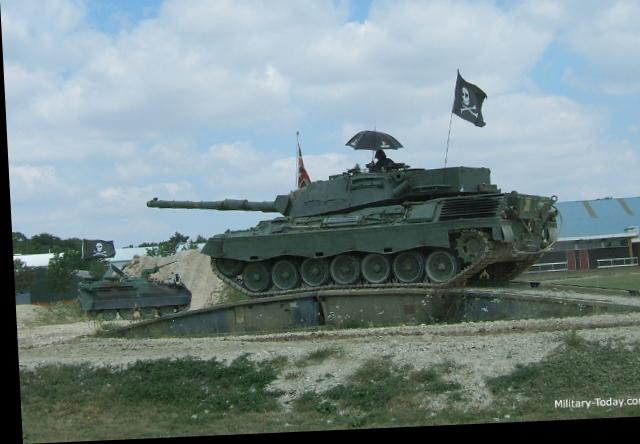tank: (200, 145, 549, 299), (65, 253, 189, 332)
